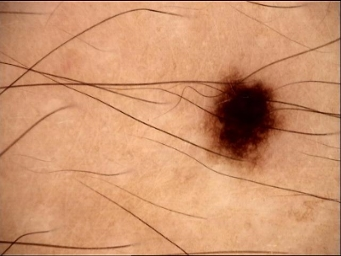nevus: (209, 75, 276, 167)
